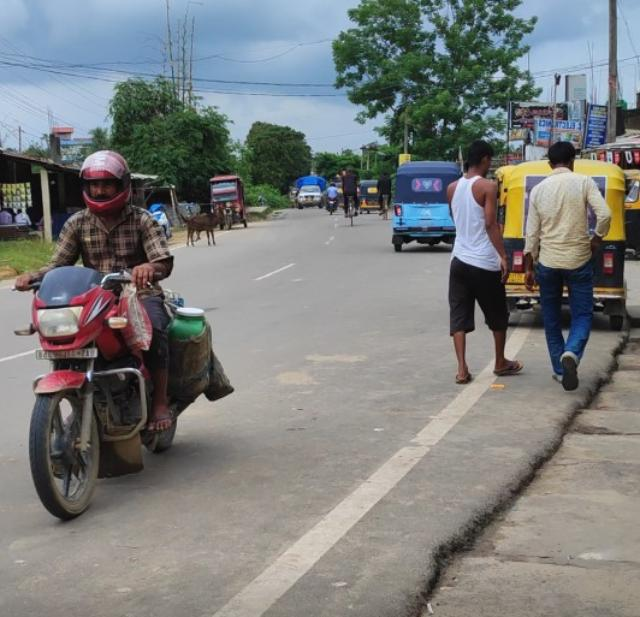licensePlate: (31, 342, 96, 362)
motorcycle: (16, 145, 209, 526)
withHelmet: (74, 152, 131, 213)
